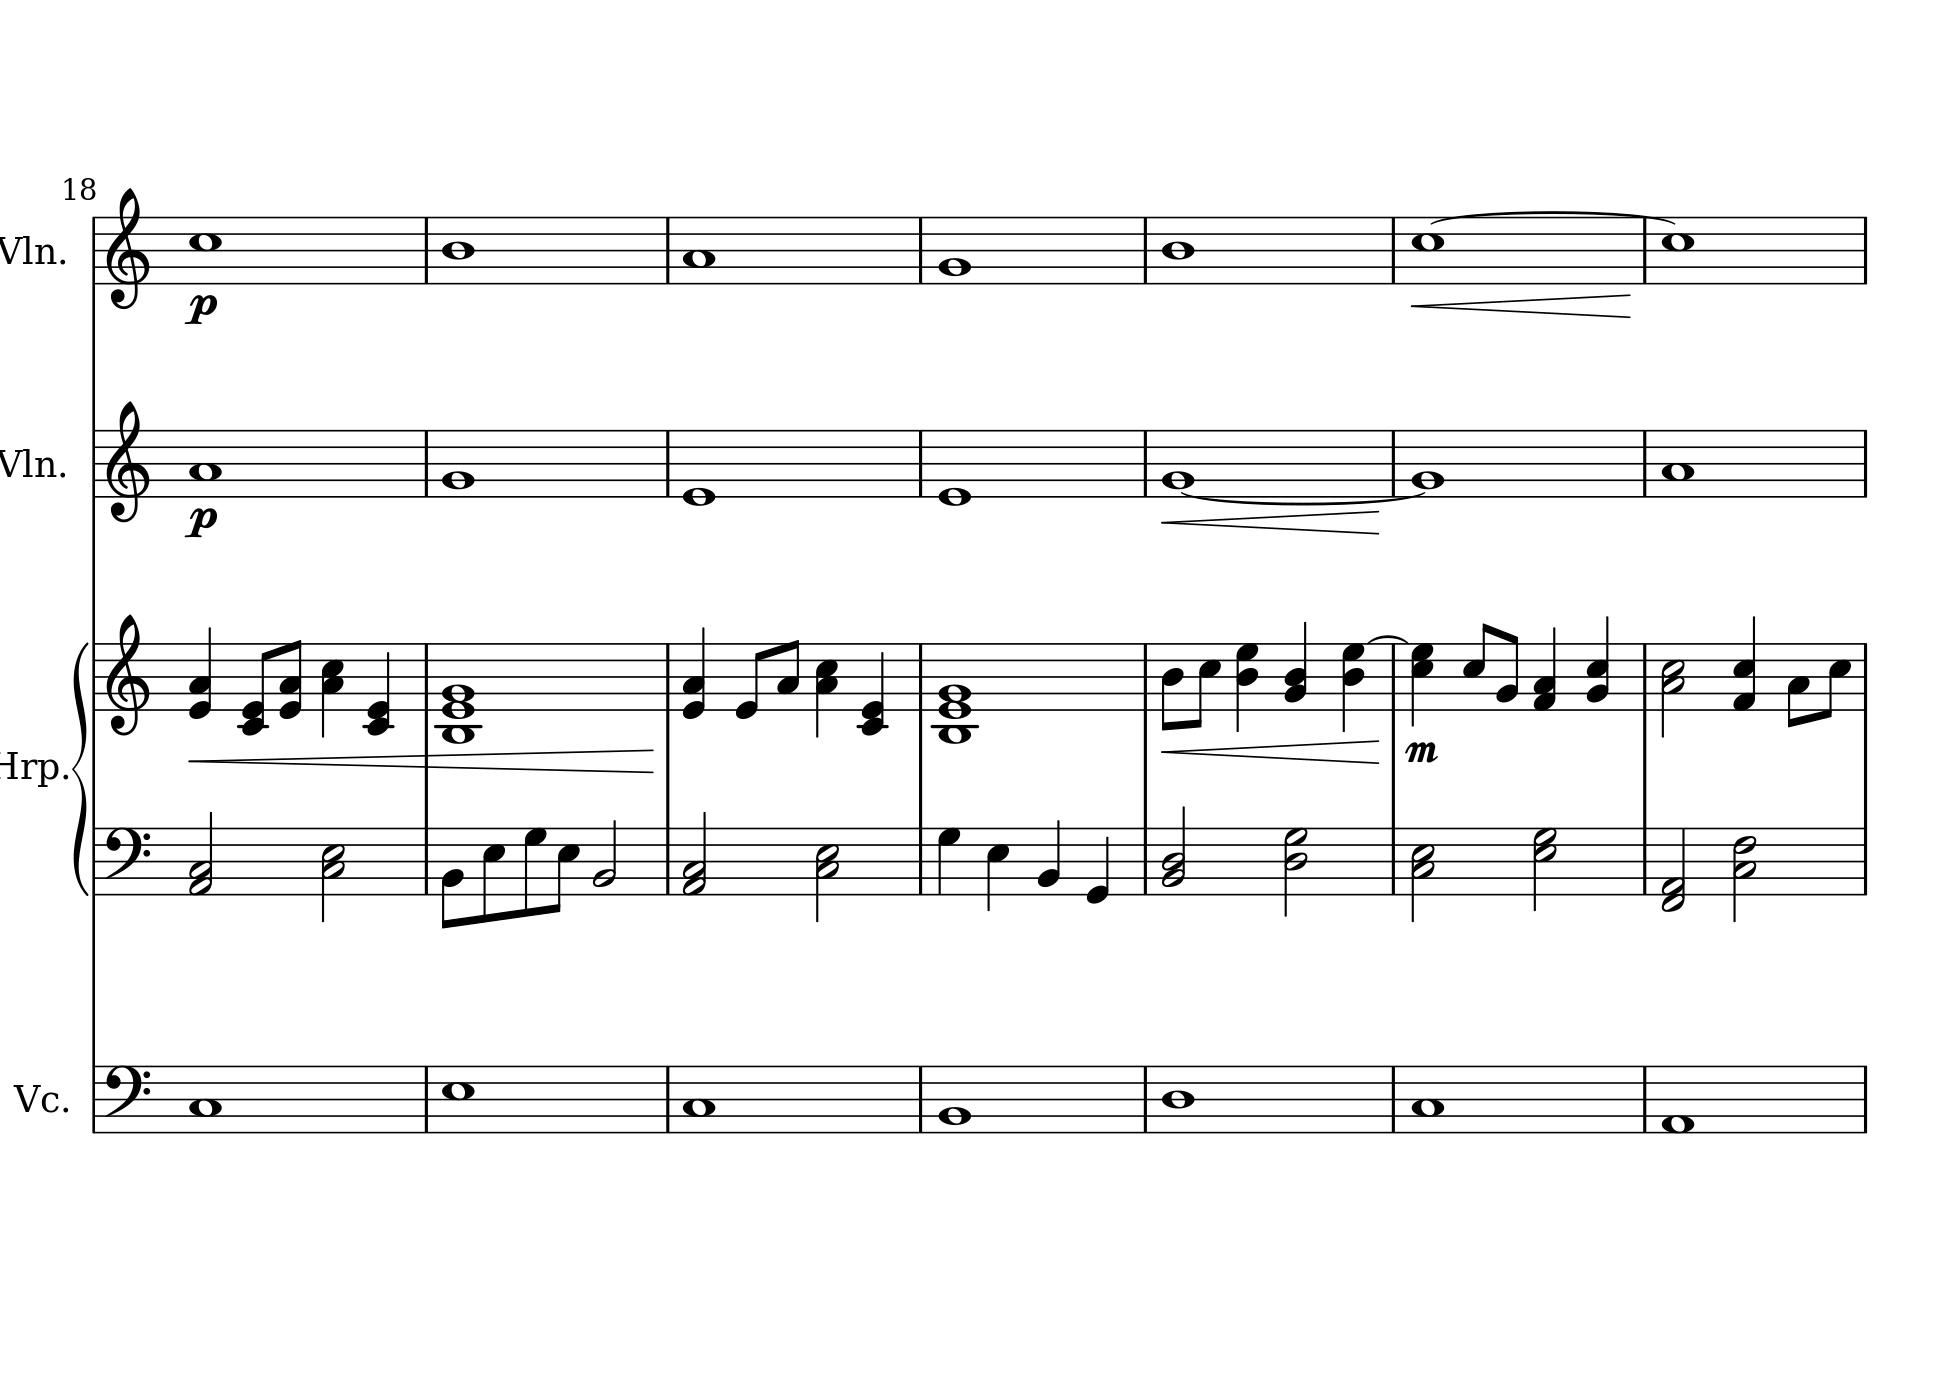1: (61, 174, 76, 202)
1_0: (681, 424, 717, 508), (937, 426, 973, 508)
1_1: (1660, 1063, 1696, 1137)
1_2: (934, 213, 973, 286), (934, 1062, 973, 1135), (439, 426, 477, 499), (1159, 426, 1197, 499), (1410, 426, 1446, 499)
1_3: (1660, 427, 1695, 499), (681, 214, 715, 285), (187, 1063, 222, 1134), (681, 1063, 715, 1134), (187, 427, 222, 496), (1411, 1063, 1444, 1134)
1_4: (1161, 1062, 1197, 1135), (439, 213, 475, 285), (1161, 214, 1197, 285)
1_5: (439, 1063, 475, 1135), (187, 213, 223, 283), (1410, 214, 1446, 285), (1660, 214, 1695, 286)
1_th: (436, 642, 481, 748), (931, 642, 976, 745)
2_-1_1: (1659, 826, 1689, 912)
2_1_3: (187, 811, 214, 898), (681, 813, 708, 898)
2_2: (592, 817, 618, 895)
2_2_4: (1159, 807, 1188, 897)
2_3_5: (1410, 826, 1437, 925), (814, 826, 841, 922), (321, 826, 346, 921), (1662, 640, 1686, 739)
2_3_6: (1732, 825, 1759, 925)
2_4_7: (1282, 825, 1308, 919)
2_5_7: (1533, 826, 1560, 913)
4_-2_0: (361, 640, 397, 736), (856, 642, 892, 738)
4_0: (1086, 825, 1113, 904)
4_0_3: (679, 625, 708, 718), (187, 625, 214, 718)
4_1_3: (1533, 628, 1560, 712)
4_1_5: (1732, 615, 1758, 712)
4_2: (1035, 817, 1063, 895)
4_2_4: (1284, 622, 1309, 712)
4_2_5: (1585, 615, 1611, 712)
4_3_5: (321, 642, 346, 738)
4_4_7: (1234, 642, 1261, 733), (1341, 642, 1368, 732)
4_5: (985, 823, 1011, 913)
4_5_7: (1410, 642, 1435, 727)
4_7: (936, 826, 961, 895)
8: (78, 174, 96, 201)
8_-2_0: (237, 640, 274, 736)
8_0: (733, 640, 765, 721)
8_0_3: (277, 637, 304, 720)
8_2: (439, 826, 463, 931), (1495, 630, 1521, 712)
8_3: (1785, 642, 1810, 729), (775, 637, 801, 712)
8_4: (1161, 640, 1185, 730)
8_5: (1462, 619, 1494, 712), (1191, 640, 1221, 730), (550, 825, 580, 913), (480, 825, 505, 922), (1822, 640, 1852, 718)
8_7: (522, 825, 547, 918)
Brace: (70, 637, 88, 895)
Crescendo_hairpin: (1164, 736, 1380, 766), (1162, 508, 1381, 535)
Fclef: (103, 826, 151, 897), (103, 1063, 151, 1134)
Gclef: (103, 184, 151, 310), (103, 397, 151, 523), (103, 612, 151, 736)
Single_barline: (912, 826, 931, 892), (1386, 642, 1404, 711), (1137, 643, 1155, 711), (418, 826, 436, 894), (1137, 826, 1155, 894), (658, 217, 676, 283), (1137, 217, 1155, 283), (658, 430, 676, 496), (1137, 430, 1155, 496), (658, 643, 676, 709), (910, 643, 928, 709), (417, 643, 435, 709), (1137, 1066, 1155, 1131), (1384, 430, 1402, 493), (1857, 216, 1873, 283), (1857, 828, 1873, 895), (1857, 1065, 1873, 1132), (418, 217, 435, 283), (912, 217, 928, 283), (1386, 217, 1402, 283), (912, 430, 928, 496), (1857, 430, 1873, 496), (418, 430, 435, 496), (1638, 643, 1654, 709), (1386, 826, 1402, 892), (660, 828, 676, 894), (418, 1066, 435, 1132), (1636, 1066, 1653, 1132), (660, 1066, 676, 1131), (912, 1066, 928, 1131), (1386, 1066, 1402, 1131), (1858, 642, 1873, 712), (85, 216, 100, 283), (87, 429, 102, 496), (1638, 826, 1653, 894), (87, 1065, 102, 1132), (1638, 430, 1653, 496), (88, 826, 102, 895), (88, 642, 102, 709), (1638, 228, 1653, 283)
Slur: (1368, 633, 1410, 645)
Vln: (1, 228, 57, 271), (1, 442, 57, 484)
m: (1402, 738, 1440, 766)
p: (184, 505, 217, 541), (184, 292, 217, 327)
